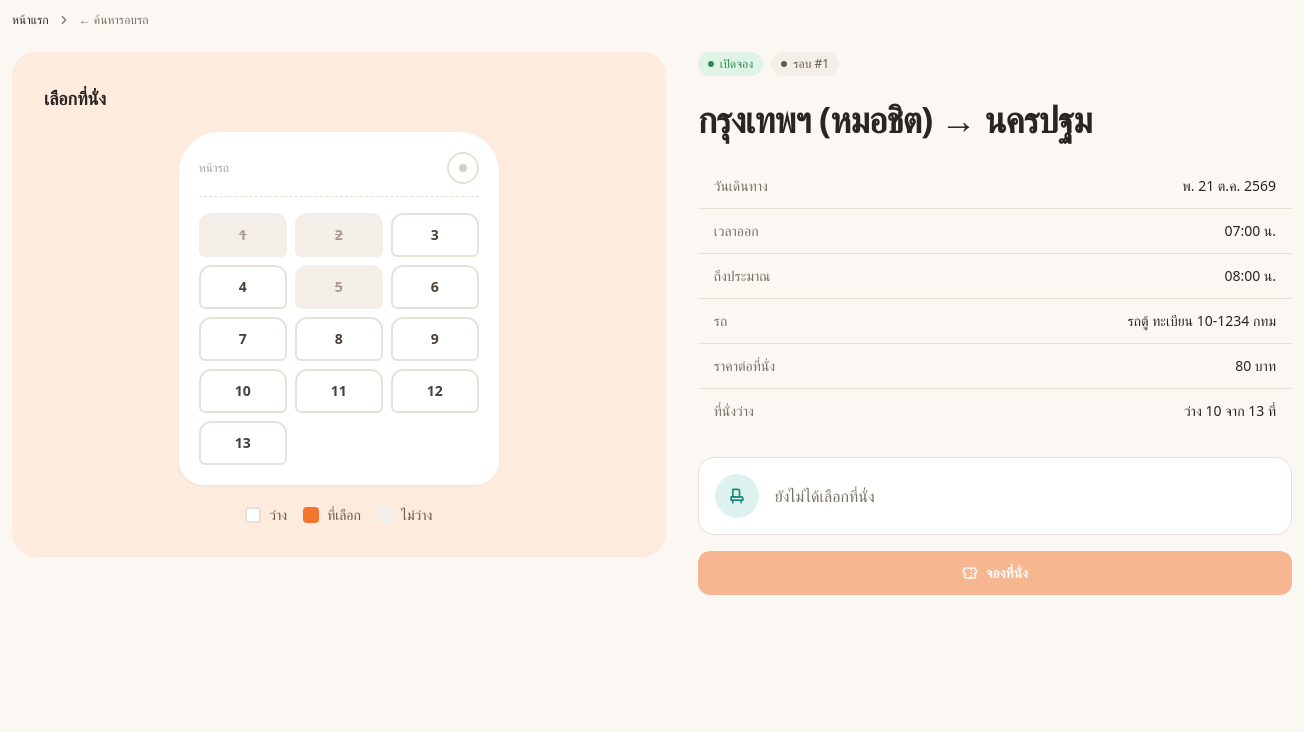
มีคนจองตัดหน้า: บอกเหตุผล โหลดผังใหม่ และตัดที่นั่งนั้นออกจากที่เลือก
The width and height of the screenshot is (1304, 732).
Click the button named "ที่นั่ง 3". click: (435, 235)
box: [391,213,479,257]
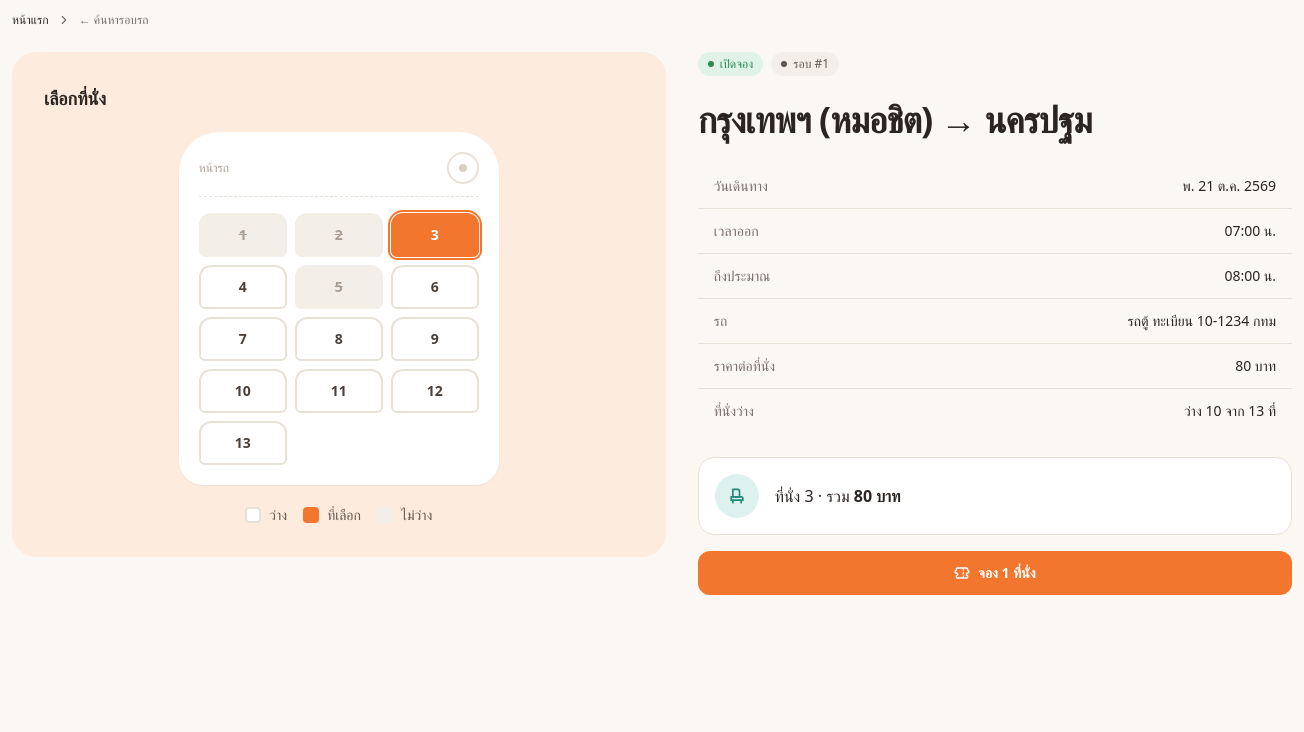
Click the button named "ที่นั่ง 4". click: (243, 287)
box: [199,265,287,309]
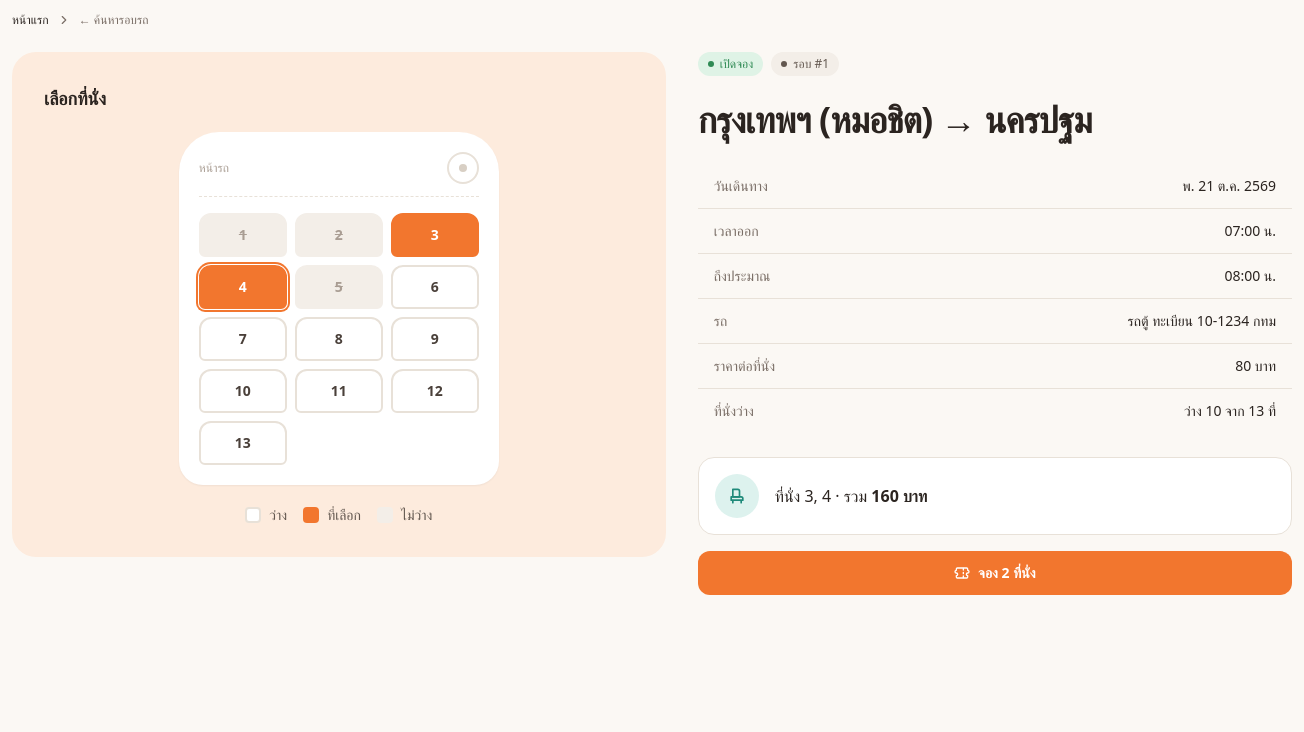
Click the button "จอง 2 ที่นั่ง". click: (995, 573)
box: [698,551,1292,595]
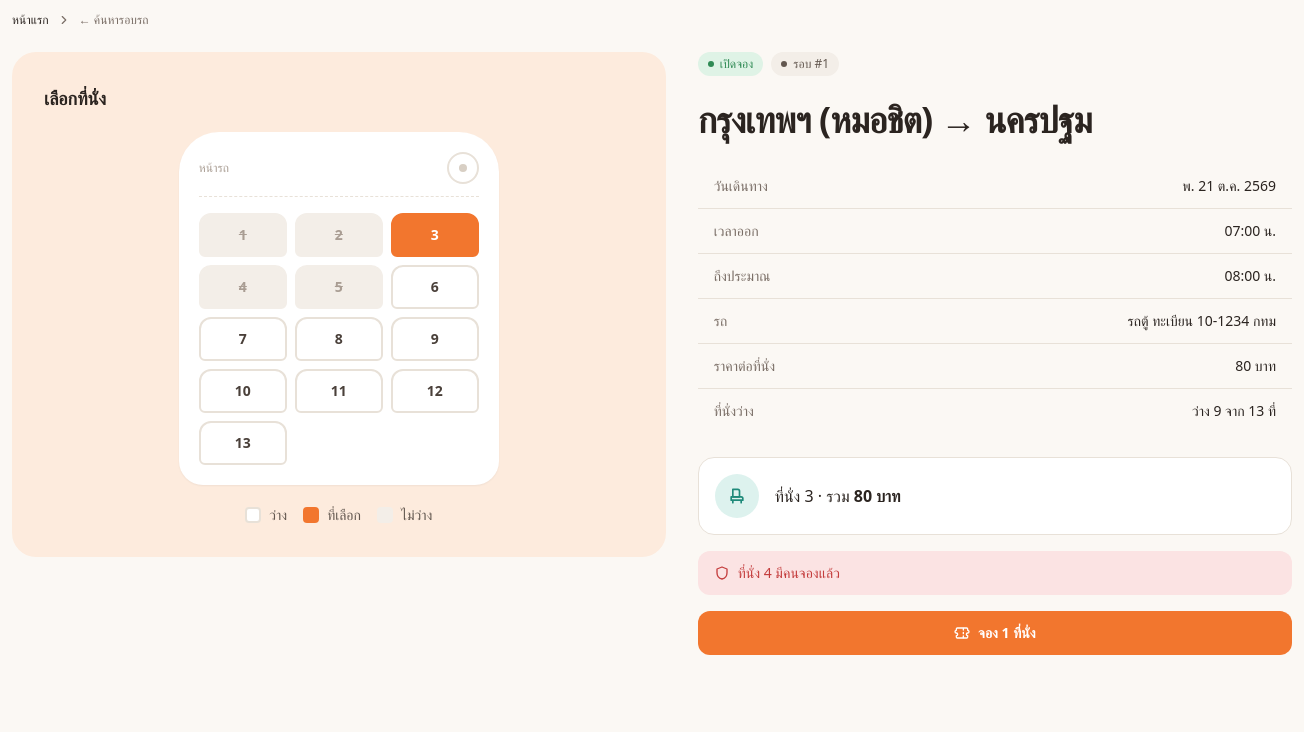
Expected: the button "จอง 1 ที่นั่ง" is enabled, [698,611,1292,655]
Expected: the message reads "ที่นั่ง 4 มีคนจองแล้ว", [738,563,840,582]
Expected: the button named "ที่นั่ง 4 ไม่ว่าง" is disabled, [199,265,287,309]
